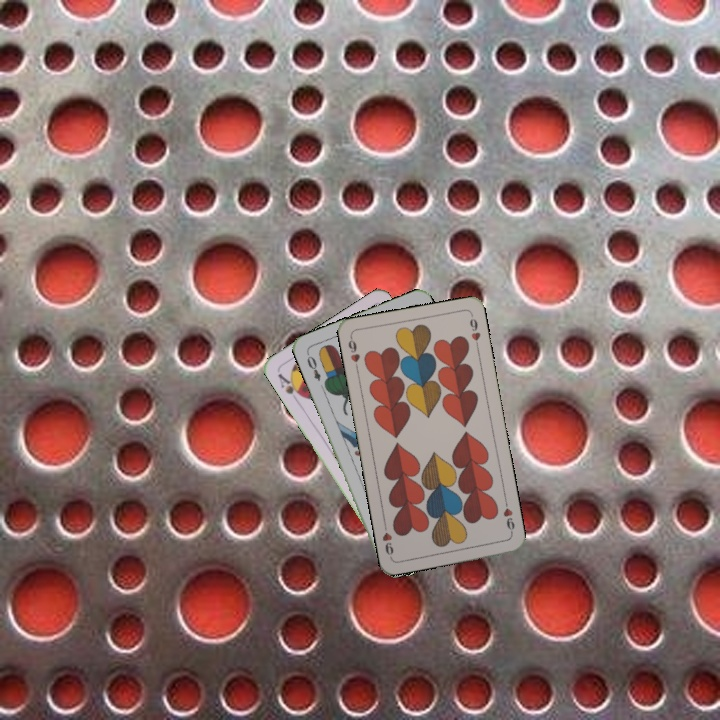EO: (303, 349, 323, 384)
H9: (344, 333, 363, 373), (499, 497, 517, 537)
SA: (273, 369, 306, 400)
